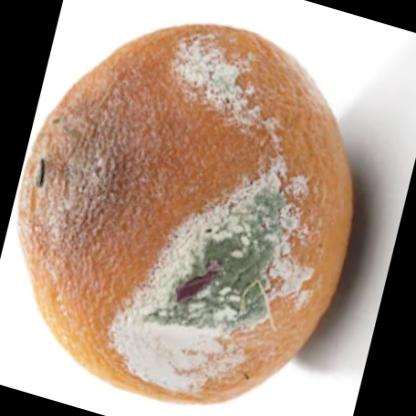rotten: (14, 23, 357, 403)
